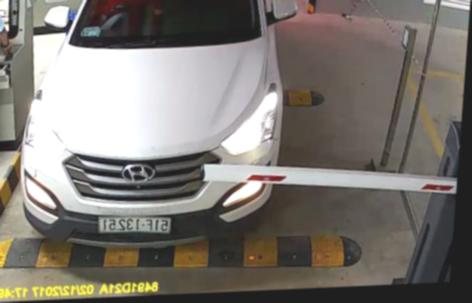License_Plate: (89, 207, 177, 243)
